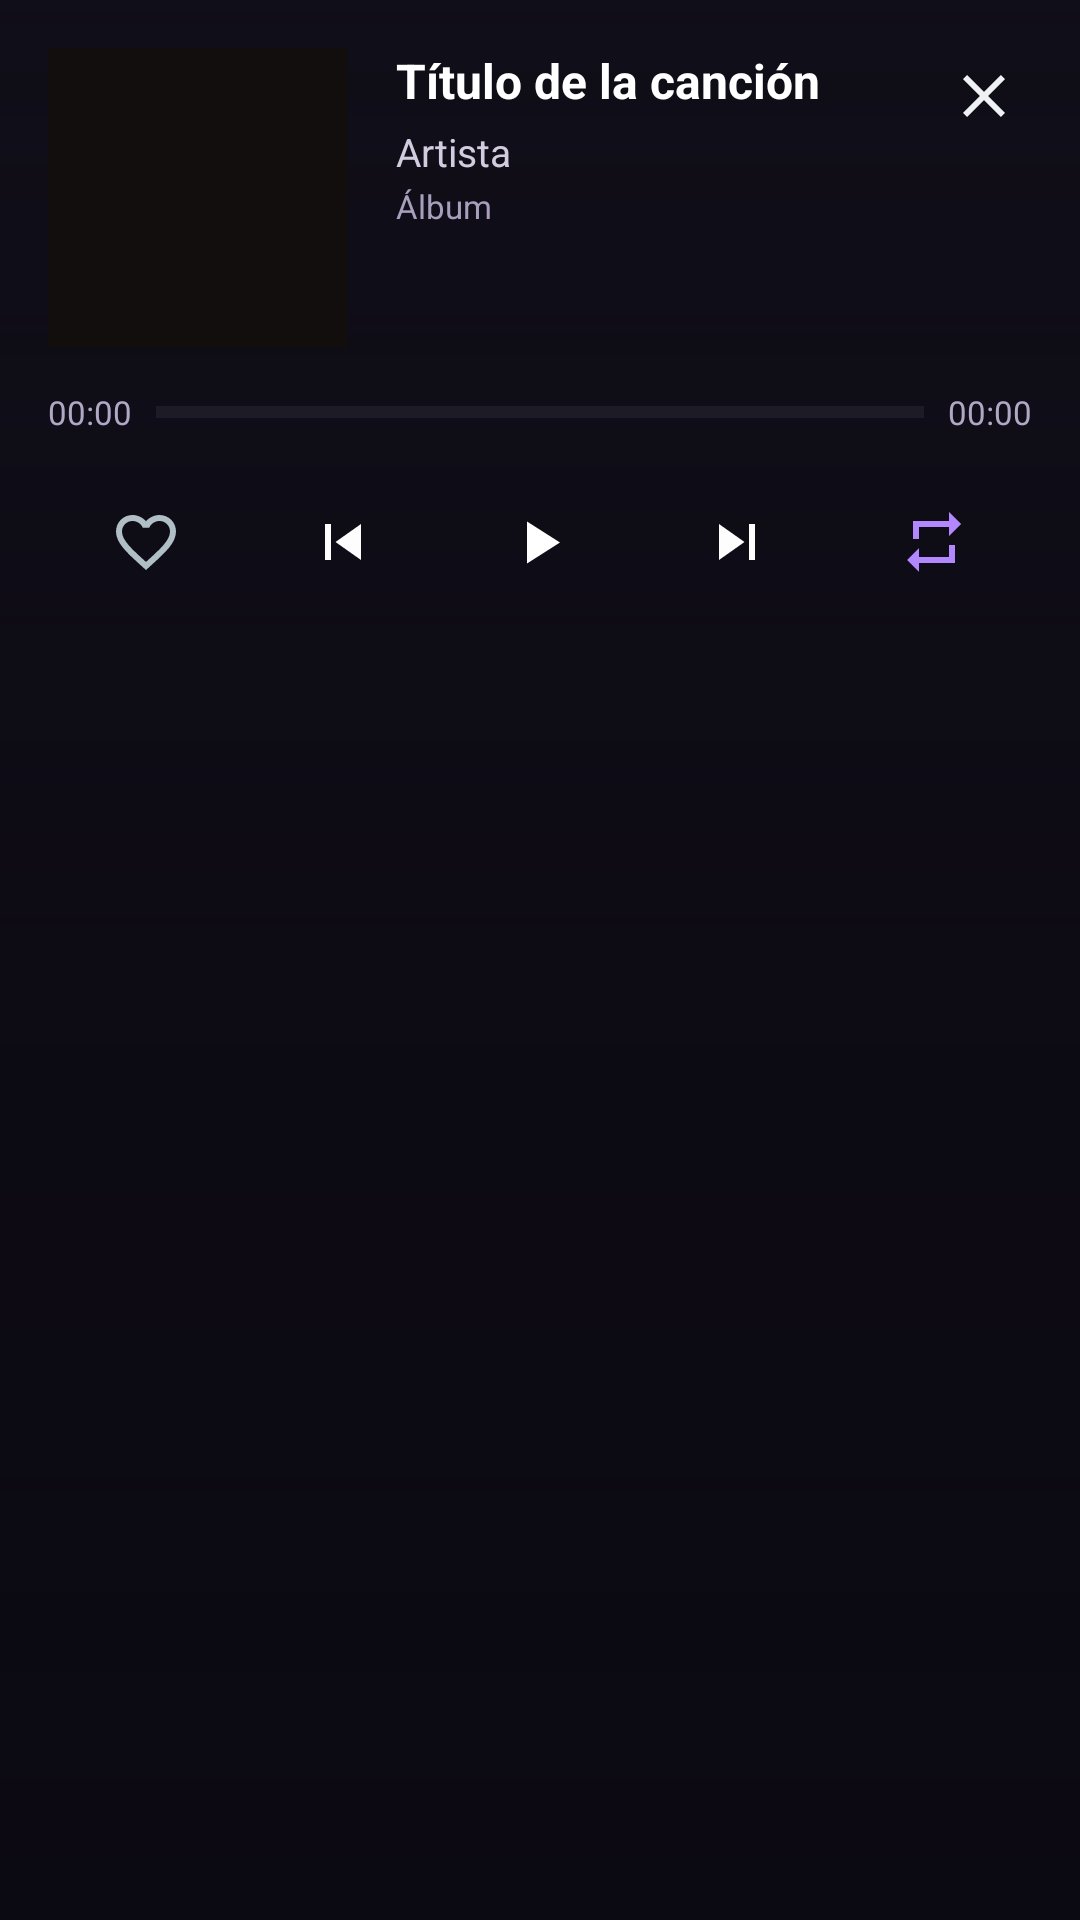

Screen size 1080*1920. Icon name, then its center in pixels as point (x, y):
Anterior: point (343, 542)
Cerrar notificación: point (984, 96)
Favorito: point (146, 542)
Modo de reproducción: point (934, 542)
Reproducir / Pausa: point (543, 542)
Siguiente: point (737, 542)
